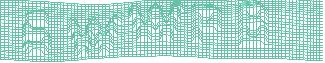5: (20, 10, 53, 58)
B: (235, 1, 270, 50)
P: (189, 3, 222, 47)
W: (128, 1, 185, 45), (65, 13, 120, 58)
